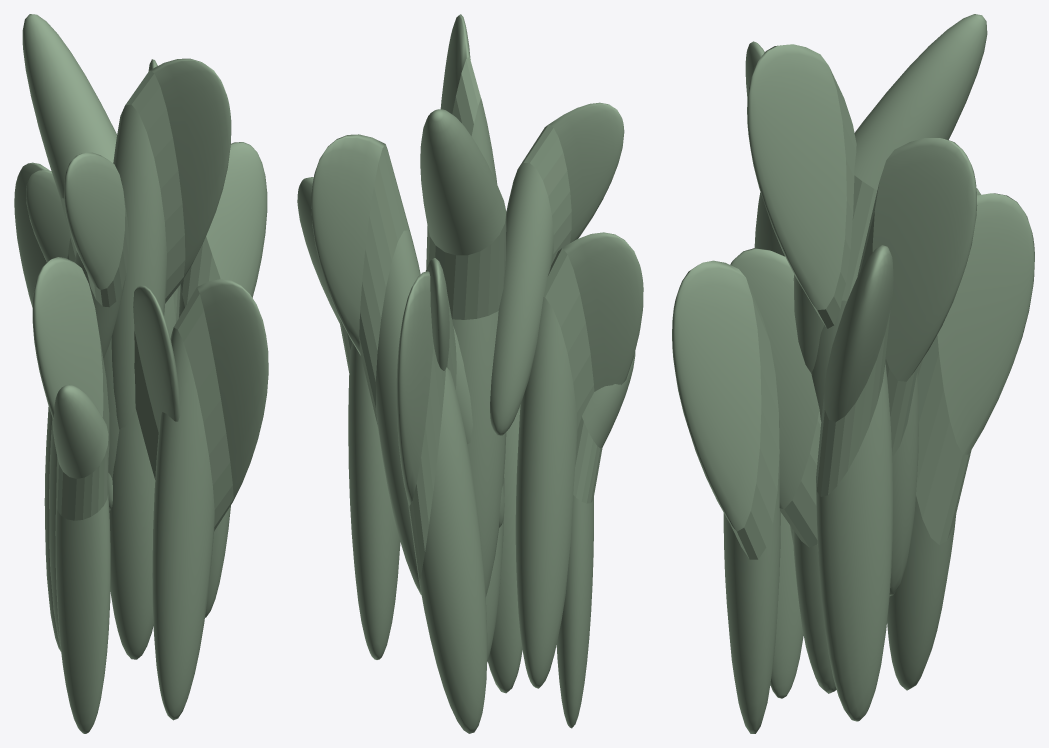
Rendered from corail_pepe (1).fbx.
3 views of the same model, side by side, from view 1: azimuth 30°, elevation 25°; view 2: azimuth 150°, elevation 25°; view 3: azimuth 270°, elevation 25° (orthographic). The views are drawn at different scales.
Visible parts, largest first — view 1: pSphere19, pSphere11, pSphere20, pSphere15, corail_PEPE, pSphere16, pSphere17, pSphere12, pSphere18, pSphere14, pSphere13; view 2: pSphere16, pSphere18, pSphere13, corail_PEPE, pSphere12, pSphere17, pSphere20, pSphere19, pSphere11, pSphere14, pSphere15; view 3: pSphere19, pSphere18, pSphere17, pSphere11, pSphere13, pSphere15, corail_PEPE, pSphere20, pSphere16.
Part boxes in pixels (left/top/right/bottom): pSphere19: left=152, top=279, right=268, bottom=720; pSphere11: left=111, top=58, right=231, bottom=429; pSphere20: left=52, top=384, right=110, bottom=733; pSphere15: left=109, top=285, right=180, bottom=659; corail_PEPE: left=22, top=14, right=119, bottom=478; pSphere16: left=32, top=257, right=109, bottom=646; pSphere17: left=179, top=142, right=267, bottom=617; pSphere12: left=64, top=152, right=128, bottom=359; pSphere18: left=14, top=162, right=61, bottom=651; pSphere14: left=26, top=170, right=112, bottom=510; pSphere13: left=148, top=59, right=180, bottom=338; pSphere16: left=515, top=232, right=643, bottom=688; pSphere18: left=396, top=271, right=487, bottom=733; pSphere13: left=311, top=134, right=421, bottom=594; corail_PEPE: left=420, top=109, right=506, bottom=596; pSphere12: left=490, top=102, right=624, bottom=435; pSphere17: left=297, top=177, right=400, bottom=659; pSphere20: left=556, top=351, right=635, bottom=728; pSphere19: left=487, top=404, right=522, bottom=693; pSphere11: left=440, top=14, right=497, bottom=183; pSphere14: left=425, top=258, right=504, bottom=527; pSphere15: left=486, top=478, right=504, bottom=662; pSphere19: left=672, top=260, right=780, bottom=733; pSphere18: left=887, top=193, right=1034, bottom=690; pSphere17: left=816, top=245, right=893, bottom=721; pSphere11: left=747, top=44, right=856, bottom=373; pSphere13: left=857, top=138, right=977, bottom=595; pSphere15: left=730, top=248, right=836, bottom=693; corail_PEPE: left=811, top=14, right=987, bottom=421; pSphere20: left=770, top=513, right=803, bottom=698; pSphere16: left=754, top=192, right=793, bottom=543.
Size of the model in its own units: 1.37 by 3.04 by 1.41.
